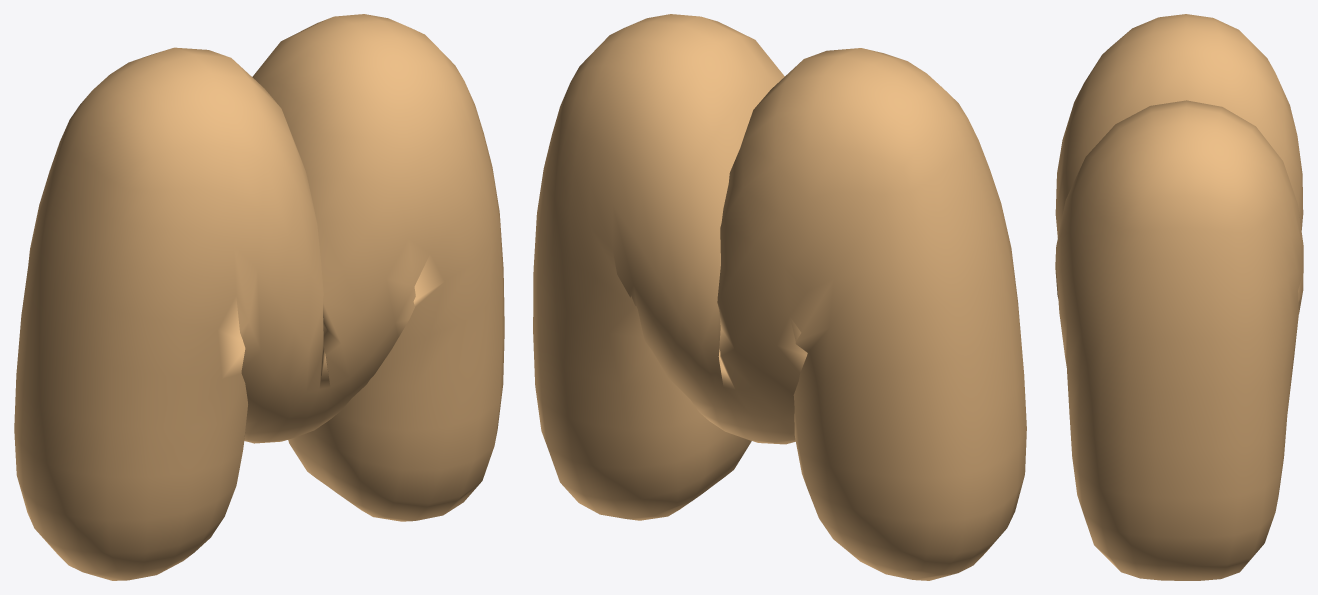
3 renders of one model, left to right at view 1: azimuth 30°, elevation 25°; view 2: azimuth 150°, elevation 25°; view 3: azimuth 270°, elevation 25°, orthographic. The views are drawn at different scales.
Parts seen in each view (by area): view 1: Object_28; view 2: Object_28; view 3: Object_28.
Part boxes in pixels (<box>): Object_28: <box>14,14,504,580</box>; Object_28: <box>533,14,1026,580</box>; Object_28: <box>1055,14,1303,580</box>.
Size of the model in its own units: 93.49 by 98.46 by 48.81.
